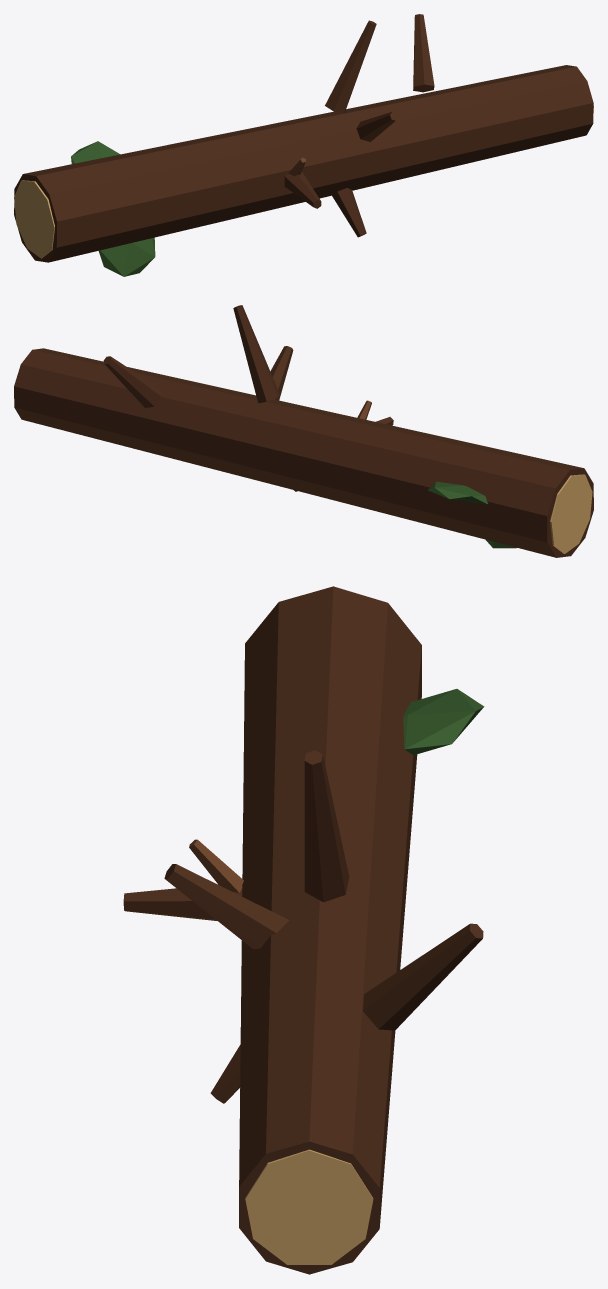
Rendered from fallen_log_d.glb.
3 views of the same model, one above another, from view 1: azimuth 30°, elevation 25°; view 2: azimuth 150°, elevation 25°; view 3: azimuth 270°, elevation 25° (orthographic). The views are drawn at different scales.
Parts seen in each view (by area): view 1: Log.003, Cut_A.003, Branch_2.015, Moss_2.003, Branch_1.015, Branch_5.013, Branch_3.015, Branch_4.013, Moss_1.003; view 2: Log.003, Cut_A.003, Branch_2.015, Branch_1.015, Moss_1.003, Branch_3.015; view 3: Log.003, Cut_B.003, Branch_2.015, Branch_1.015, Branch_3.015, Moss_1.003, Branch_4.013, Twig_4.001, Branch_5.013.
Boxes of the visible parts, x1,y1,x2,y2 form: Log.003: (14,65,593,262); Cut_A.003: (14,180,54,258); Branch_2.015: (325,20,376,113); Moss_2.003: (98,237,155,276); Branch_1.015: (413,14,434,92); Branch_5.013: (332,188,366,237); Branch_3.015: (356,111,398,141); Branch_4.013: (284,172,321,208); Moss_1.003: (71,141,120,163); Log.003: (14,348,593,557); Cut_A.003: (550,474,592,553); Branch_2.015: (233,305,279,403); Branch_1.015: (103,356,161,407); Moss_1.003: (428,481,488,504); Branch_3.015: (270,346,293,400); Log.003: (239,586,421,1274); Cut_B.003: (245,1149,373,1264); Branch_2.015: (304,750,349,902); Branch_1.015: (363,923,483,1030); Branch_3.015: (164,864,289,949); Moss_1.003: (403,689,484,755); Branch_4.013: (123,884,242,920); Twig_4.001: (189,839,243,892); Branch_5.013: (210,1044,240,1103).
Bounding box in the file's own units: 4.41 × 1.5 × 1.28.
